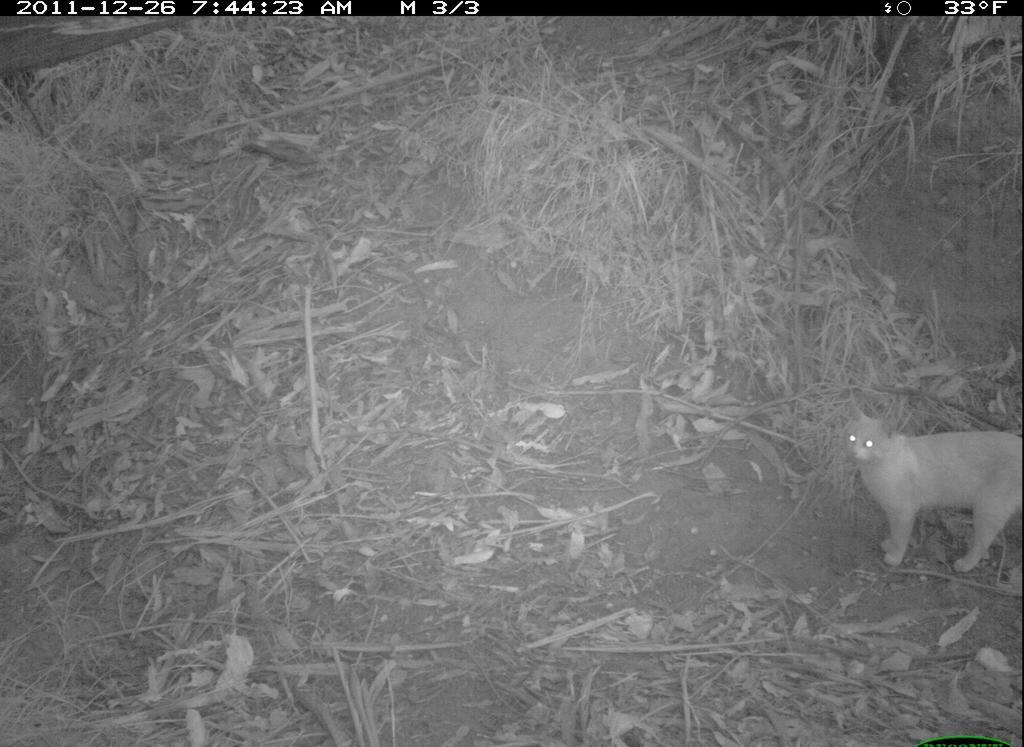cat: (834, 395, 1024, 587)
